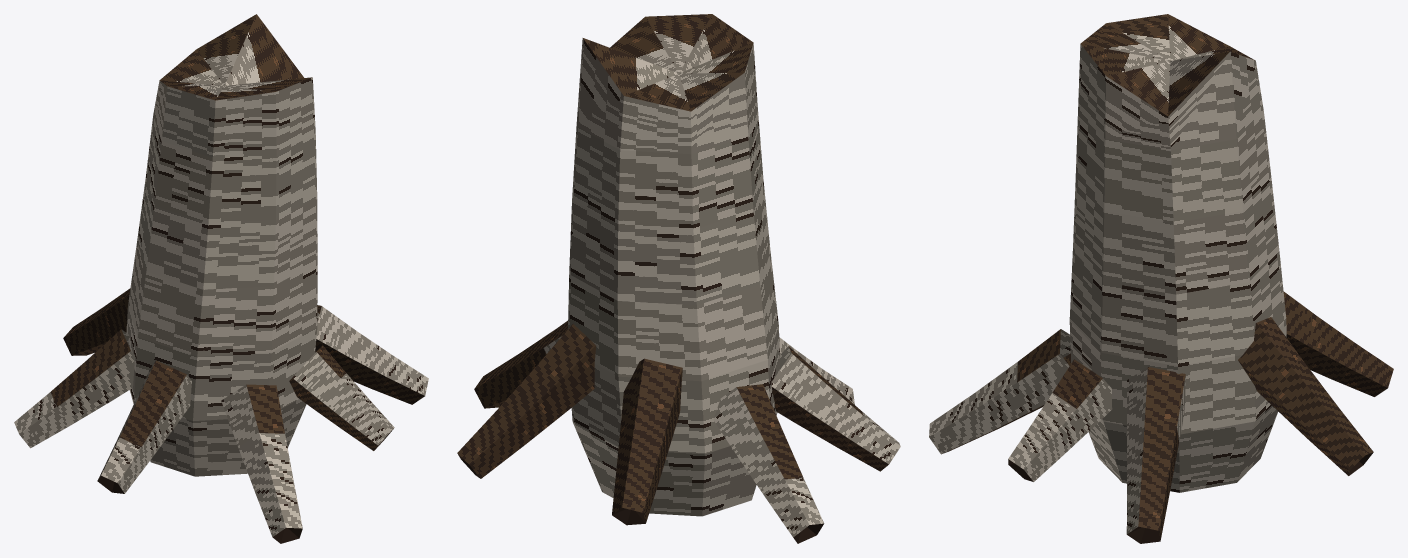
The model's file is TER-04_Tocon_ahogado.gltf.
The picture shows the model from 3 angles, left to right: view 1: azimuth 30°, elevation 25°; view 2: azimuth 150°, elevation 25°; view 3: azimuth 270°, elevation 25°; orthographic projection. The views are drawn at different scales.
Visible parts, largest first — view 1: TER-04_Tocon_ahogado; view 2: TER-04_Tocon_ahogado; view 3: TER-04_Tocon_ahogado.
Boxes of the visible parts, bbox=[...] form: TER-04_Tocon_ahogado: bbox=[14, 14, 428, 543]; TER-04_Tocon_ahogado: bbox=[457, 14, 900, 543]; TER-04_Tocon_ahogado: bbox=[929, 14, 1393, 543].
Size of what is drawn, in the model's own units: 1.16 by 1.28 by 1.18.
1 material, 1 textured.
